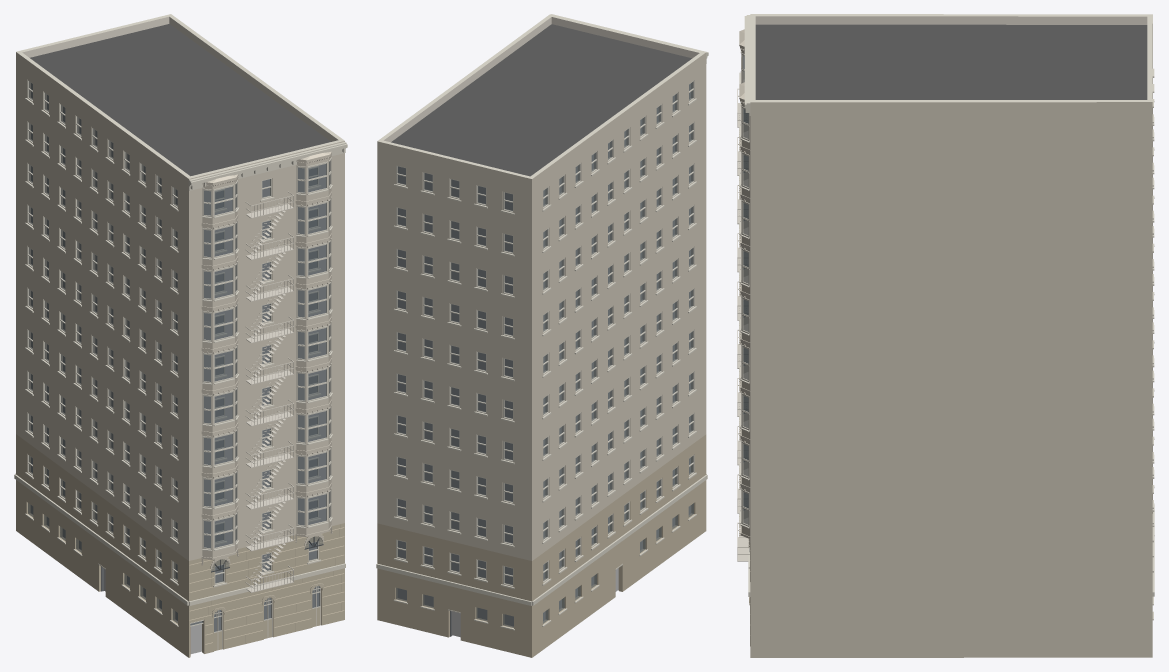
File: exterior.glb
3 renders of one model, left to right at view 1: azimuth 30°, elevation 25°; view 2: azimuth 150°, elevation 25°; view 3: azimuth 270°, elevation 25°, orthographic. The views are drawn at different scales.
Parts seen in each view (by area): view 1: shell, roof, bay-glazing-hyb, shadow-proxy, glazing, bay-windows-hyb, frames, fire-escape, trim, hyD-rubble-3, storefront; view 2: shell, roof, glazing, frames, shadow-proxy, trim; view 3: shell, roof, bay-glazing-hyb, bay-windows-hyb, fire-escape, trim.
Part boxes in pixels (bbox=[...]): shell: bbox=[16, 14, 344, 657]; roof: bbox=[30, 24, 330, 176]; bay-glazing-hyb: bbox=[202, 157, 332, 551]; shadow-proxy: bbox=[31, 83, 325, 653]; glazing: bbox=[28, 81, 319, 631]; bay-windows-hyb: bbox=[201, 151, 332, 565]; frames: bbox=[27, 80, 318, 584]; fire-escape: bbox=[245, 191, 293, 592]; trim: bbox=[14, 98, 347, 626]; hyD-rubble-3: bbox=[189, 524, 344, 644]; storefront: bbox=[98, 563, 320, 656]; shell: bbox=[377, 14, 706, 657]; roof: bbox=[391, 24, 691, 176]; glazing: bbox=[396, 82, 693, 627]; frames: bbox=[396, 80, 694, 586]; shadow-proxy: bbox=[398, 84, 690, 637]; trim: bbox=[376, 14, 708, 630]; shell: bbox=[750, 14, 1152, 657]; roof: bbox=[755, 24, 1147, 99]; bay-glazing-hyb: bbox=[739, 50, 749, 528]; bay-windows-hyb: bbox=[739, 29, 750, 546]; fire-escape: bbox=[737, 88, 749, 561]; trim: bbox=[744, 15, 1154, 620].
Bounding box in the file's own units: 13.37 × 38.82 × 26.44.
